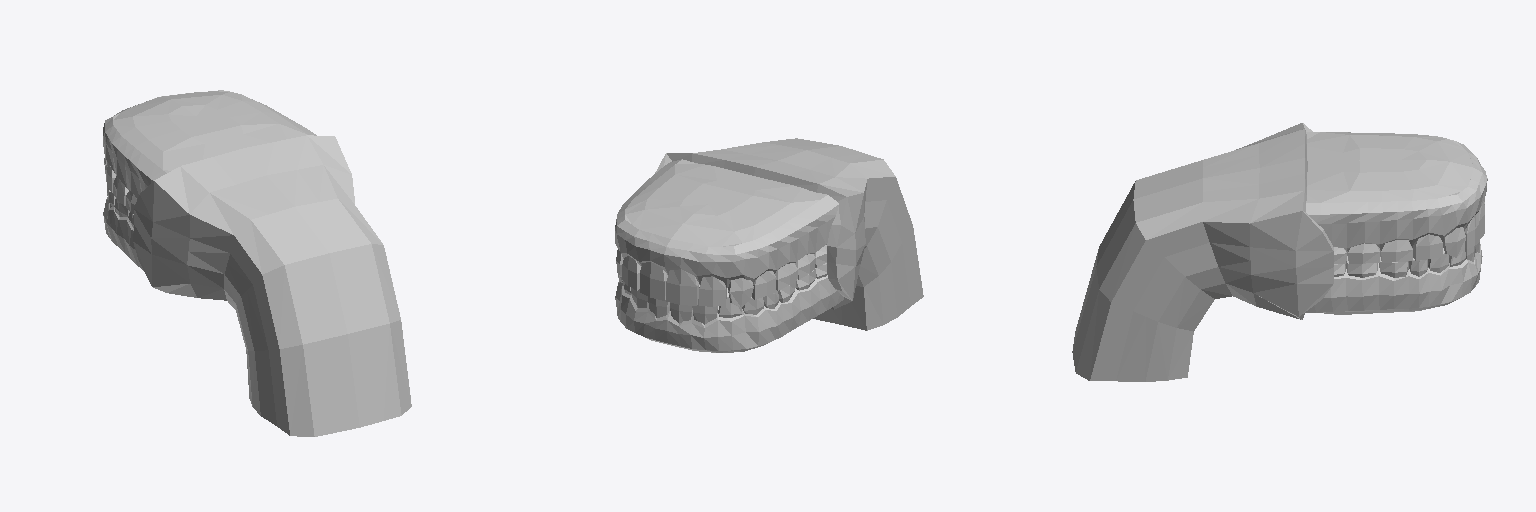
Rendered from Human Denture - Normal Teeth.obj.
The picture shows the model from 3 angles: view 1: azimuth 30°, elevation 25°; view 2: azimuth 150°, elevation 25°; view 3: azimuth 270°, elevation 25°; orthographic projection.
Visible parts, largest first — view 1: Human_-_Throat, Human_-_Upper_Jaw, Human_-_Lower_Jaw; view 2: Human_-_Upper_Jaw, Human_-_Throat, Human_-_Lower_Jaw; view 3: Human_-_Throat, Human_-_Upper_Jaw, Human_-_Lower_Jaw.
Boxes of the visible parts, x1=… form: Human_-_Throat: x1=133, y1=135, x2=411, y2=436; Human_-_Upper_Jaw: x1=103, y1=90, x2=316, y2=213; Human_-_Lower_Jaw: x1=103, y1=187, x2=143, y2=270; Human_-_Upper_Jaw: x1=615, y1=159, x2=838, y2=307; Human_-_Throat: x1=655, y1=138, x2=923, y2=330; Human_-_Lower_Jaw: x1=615, y1=263, x2=843, y2=352; Human_-_Throat: x1=1072, y1=123, x2=1333, y2=381; Human_-_Upper_Jaw: x1=1306, y1=132, x2=1487, y2=263; Human_-_Lower_Jaw: x1=1305, y1=241, x2=1482, y2=314.
Size of the model in its own units: 0.1085 by 0.1057 by 0.2023.